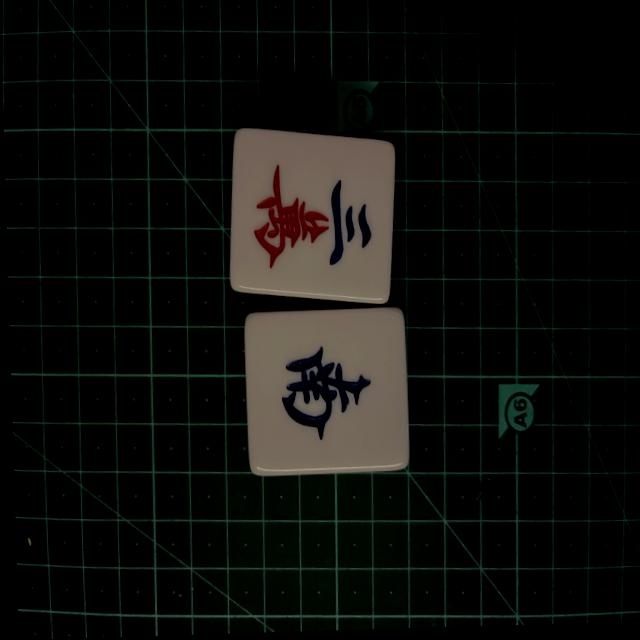m3: (239, 145, 383, 280)
south: (257, 320, 398, 455)
